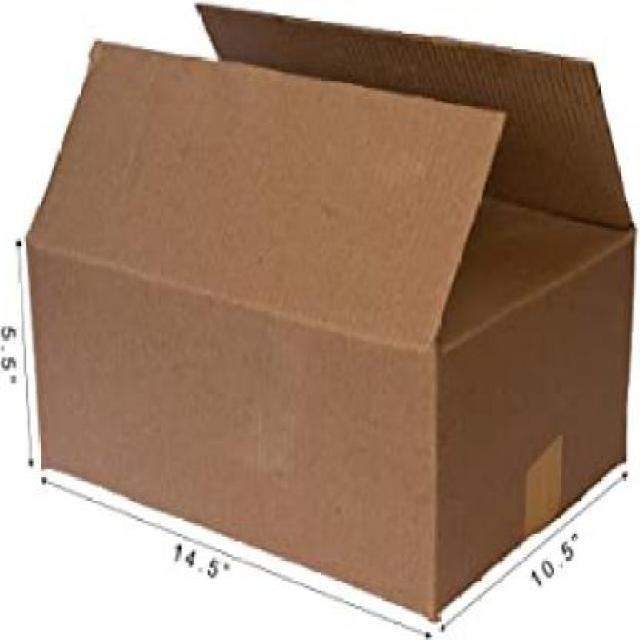box: (29, 7, 639, 626)
